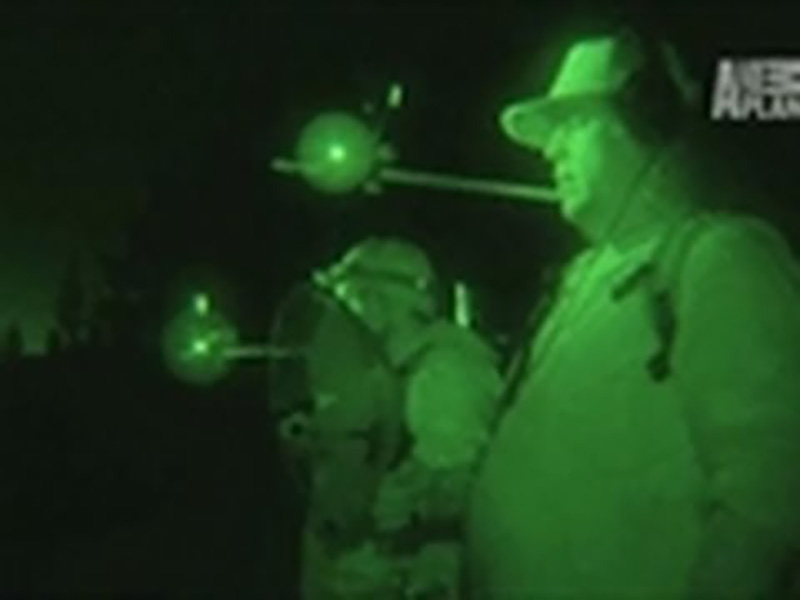cacciatore: (466, 22, 710, 556)
